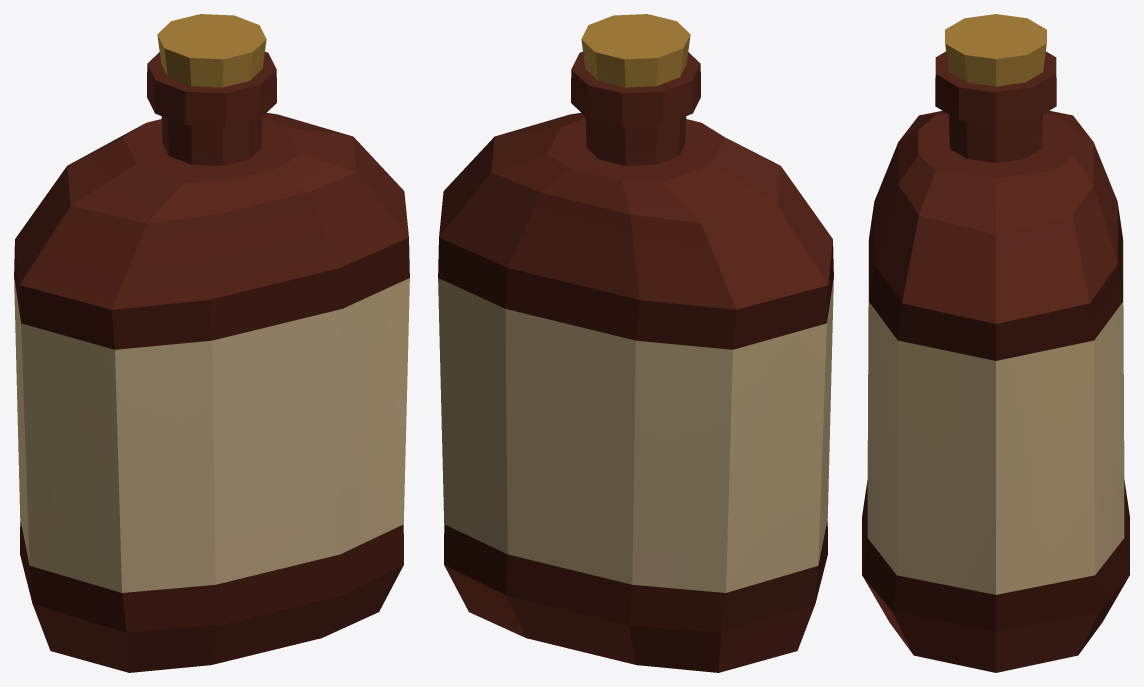
The model's file is Potion_D.fbx.
3 views of the same model, side by side, from view 1: azimuth 30°, elevation 25°; view 2: azimuth 150°, elevation 25°; view 3: azimuth 270°, elevation 25° (orthographic). The views are drawn at different scales.
Parts seen in each view (by area): view 1: Potion_D; view 2: Potion_D; view 3: Potion_D.
Boxes of the visible parts, x1,y1,x2,y2 form: Potion_D: [14, 14, 409, 672]; Potion_D: [438, 14, 833, 672]; Potion_D: [862, 14, 1129, 672].
Bounding box in the file's own units: 14.07 × 20.09 × 8.72.
